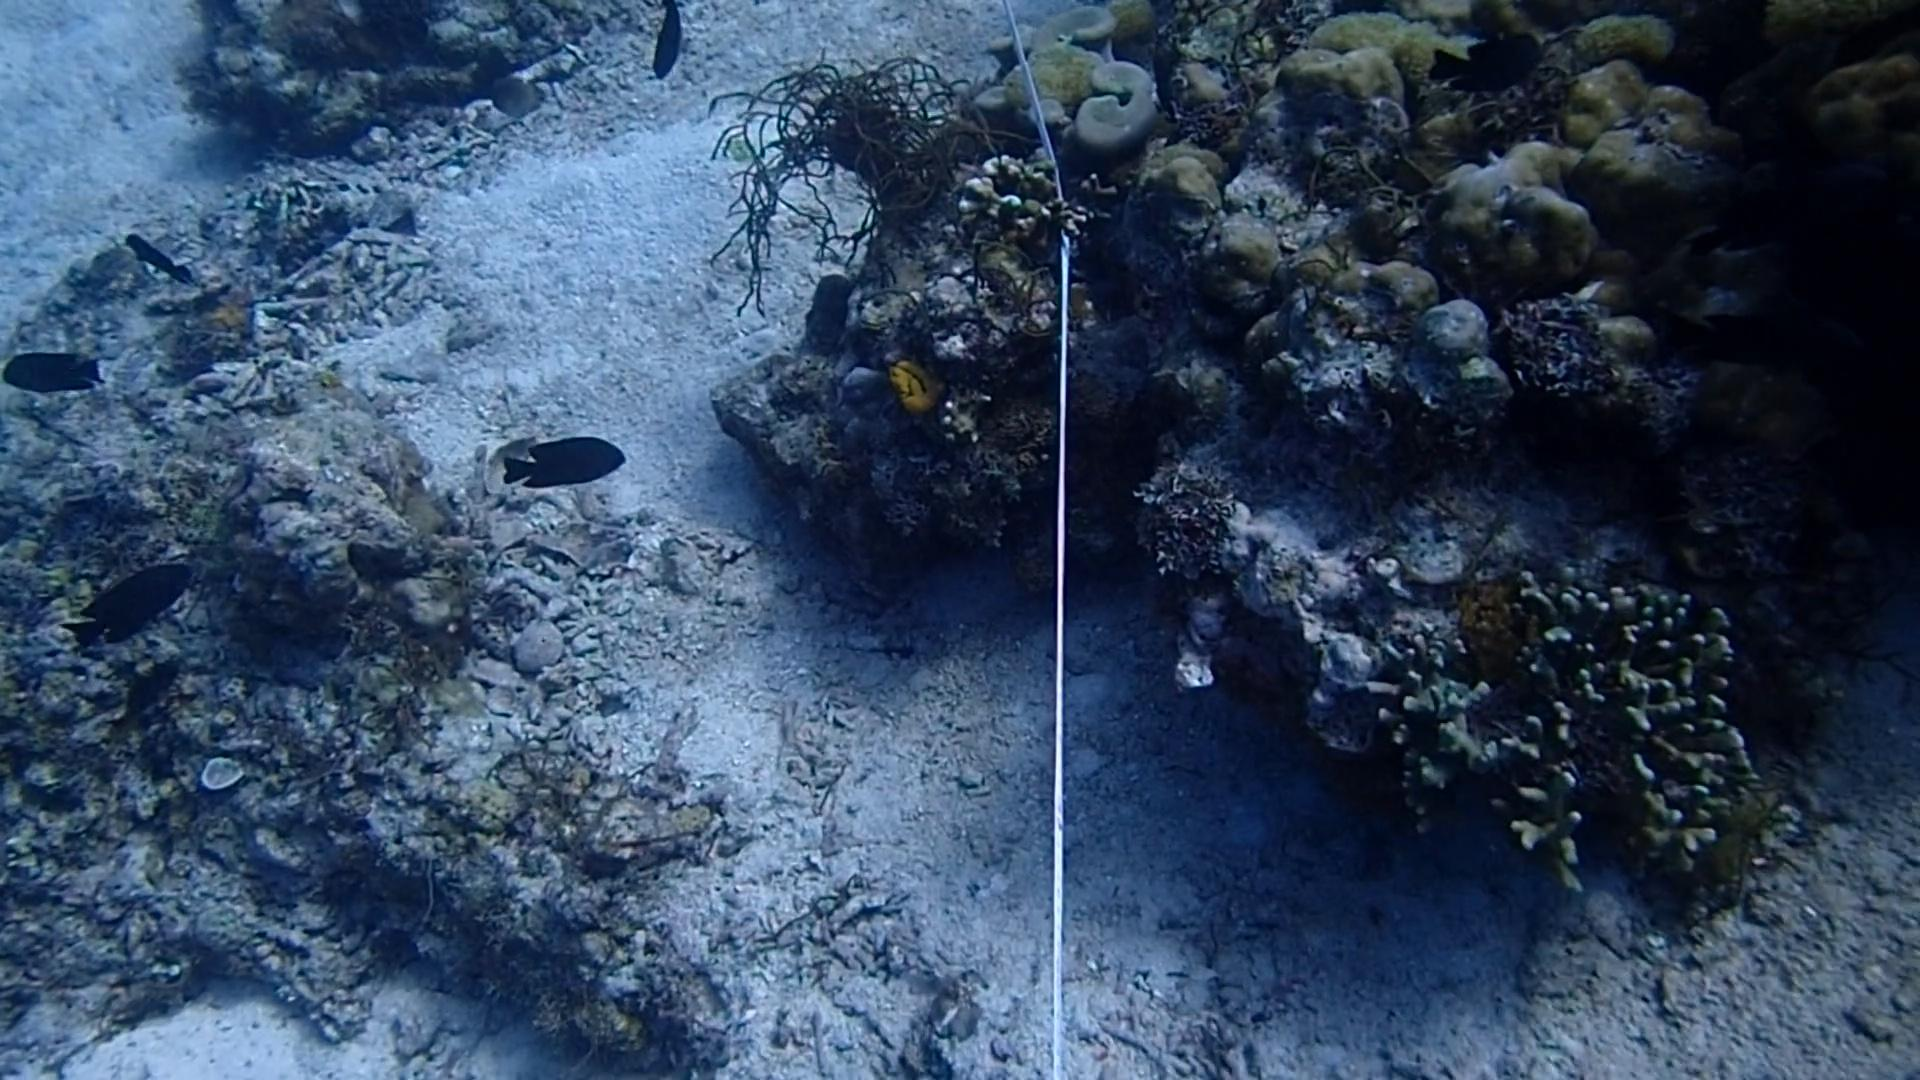Dark Fish: (70, 545, 212, 653), (489, 413, 641, 504), (618, 0, 705, 98), (94, 650, 193, 736), (7, 332, 100, 413), (124, 212, 212, 289)
Light Fish: (477, 73, 556, 128)
